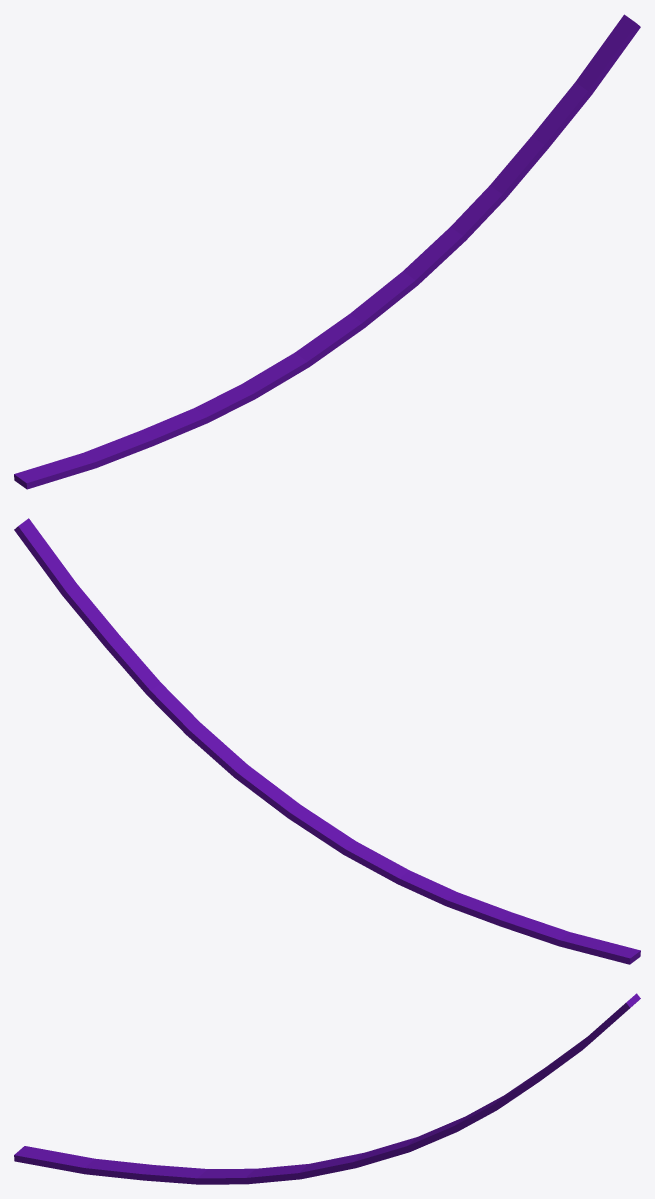
The model's file is Tape_13.fbx.
The picture shows the model from 3 angles, top to bottom: view 1: azimuth 30°, elevation 25°; view 2: azimuth 150°, elevation 25°; view 3: azimuth 330°, elevation 25°; orthographic projection. The views are drawn at different scales.
Parts seen in each view (by area): view 1: Tape_13; view 2: Tape_13; view 3: Tape_13.
Part boxes in pixels (x1=…): Tape_13: x1=14, y1=14, x2=640, y2=489; Tape_13: x1=14, y1=518, x2=640, y2=964; Tape_13: x1=14, y1=993, x2=640, y2=1184.
Size of the model in its own units: 732 by 345 by 44.65.
